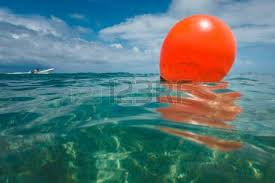buoy: (161, 15, 236, 85)
